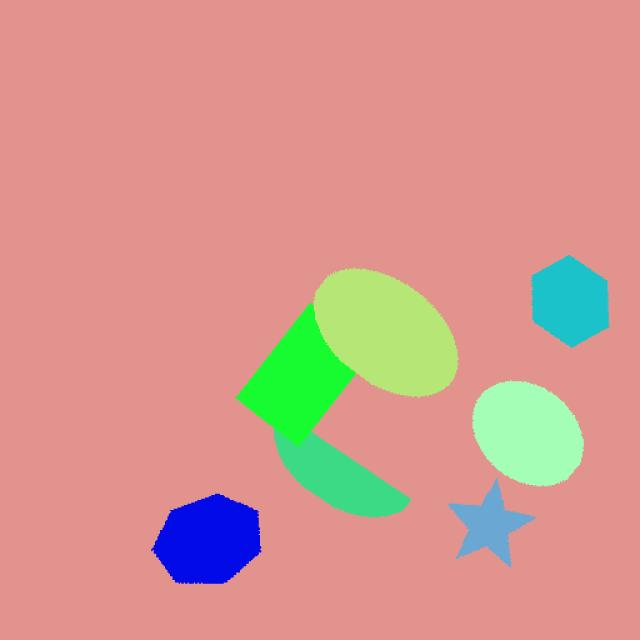Heptagon: (114, 479, 276, 607)
Oval: (316, 260, 469, 404), (460, 370, 607, 494)
Rectangle: (239, 292, 376, 432)
Semicircle: (272, 400, 428, 533)
